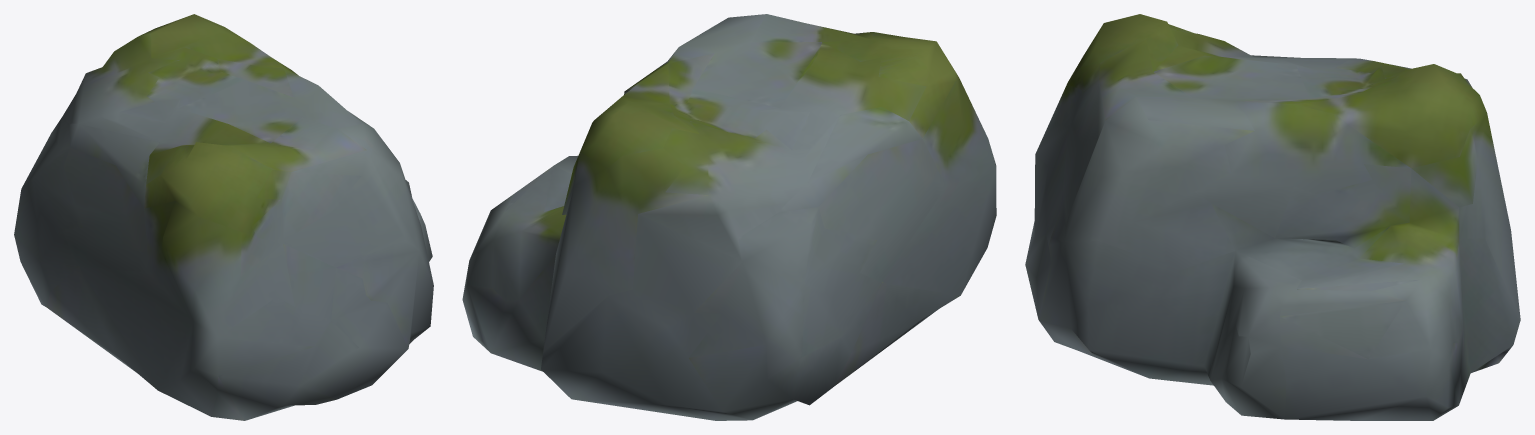
Rendered from rock-boulder.glb.
The picture shows the model from 3 angles, left to right: view 1: azimuth 30°, elevation 25°; view 2: azimuth 150°, elevation 25°; view 3: azimuth 270°, elevation 25°; orthographic projection. The views are drawn at different scales.
Visible parts, largest first — view 1: tripo_node_a371c8ba-5e8f-4e6f-b909-88f42743f76a; view 2: tripo_node_a371c8ba-5e8f-4e6f-b909-88f42743f76a; view 3: tripo_node_a371c8ba-5e8f-4e6f-b909-88f42743f76a.
Part boxes in pixels (x1=…): tripo_node_a371c8ba-5e8f-4e6f-b909-88f42743f76a: x1=14, y1=14, x2=433, y2=420; tripo_node_a371c8ba-5e8f-4e6f-b909-88f42743f76a: x1=462, y1=14, x2=996, y2=420; tripo_node_a371c8ba-5e8f-4e6f-b909-88f42743f76a: x1=1025, y1=14, x2=1520, y2=420.
Size of the model in its own units: 0.8398 by 0.6066 by 1.
Materials: 1 (1 with a texture image).
